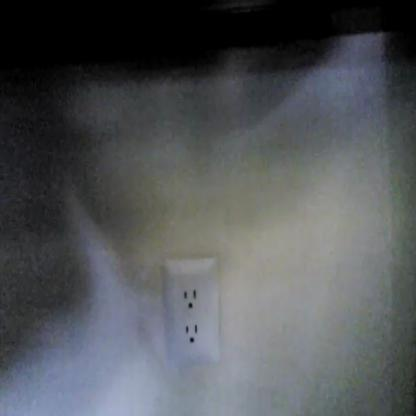OUTLET: (161, 255, 221, 366)
